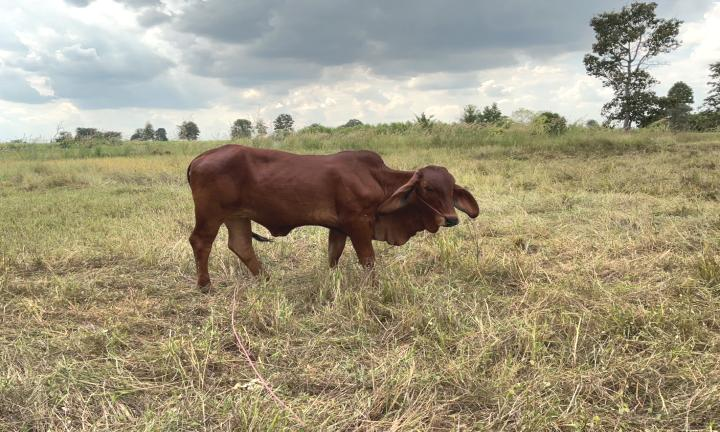Brahman: (187, 144, 479, 286)
